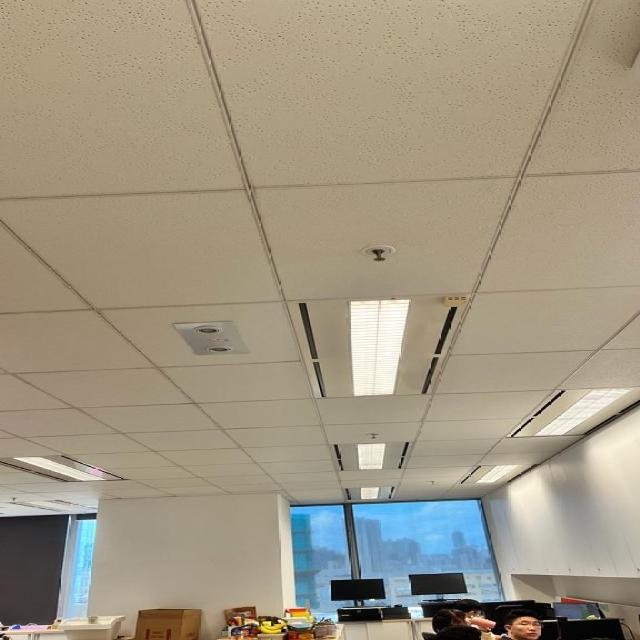Light-Opened: (287, 292, 476, 397), (500, 387, 640, 440), (330, 440, 411, 472)
